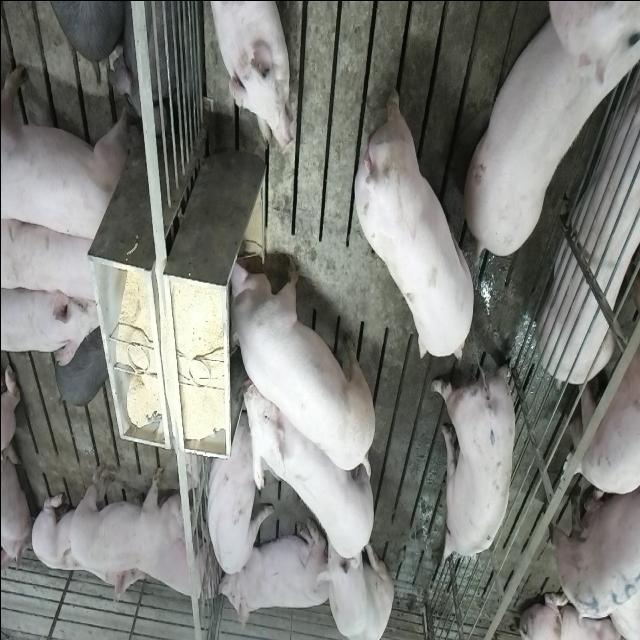Feeding: (218, 251, 370, 476)
Sitting: (203, 420, 266, 578), (317, 512, 393, 638)
Standing: (459, 6, 635, 265), (347, 82, 471, 362), (242, 373, 378, 564), (1, 60, 131, 246), (432, 346, 518, 566), (548, 463, 640, 619), (64, 462, 192, 572), (3, 212, 104, 310), (0, 281, 104, 364)
Sternal_lying: (32, 483, 144, 610), (203, 0, 291, 154), (216, 512, 328, 628), (138, 518, 212, 605)
